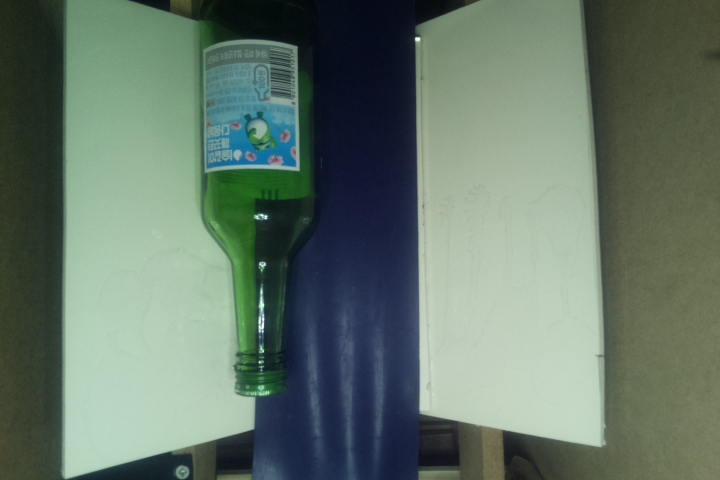soju: (195, 1, 321, 397)
